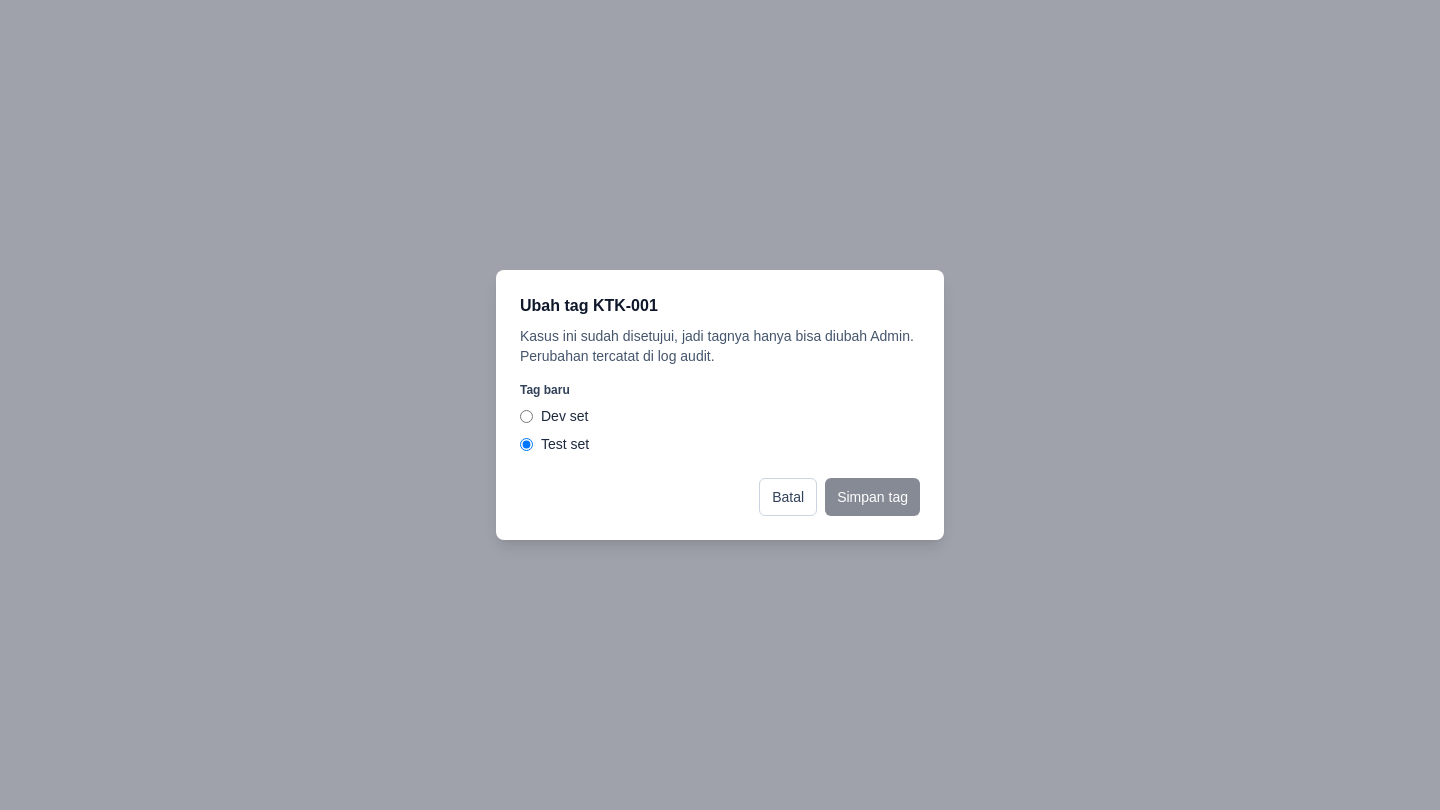
Scenario: ChangeSplitTagDialog › shows the server's reason and keeps the dialog open when the change fails
Step 1. Click the radio button labelled "Dev set" → {"x": 526, "y": 416}, box x1=520 y1=410 x2=533 y2=422
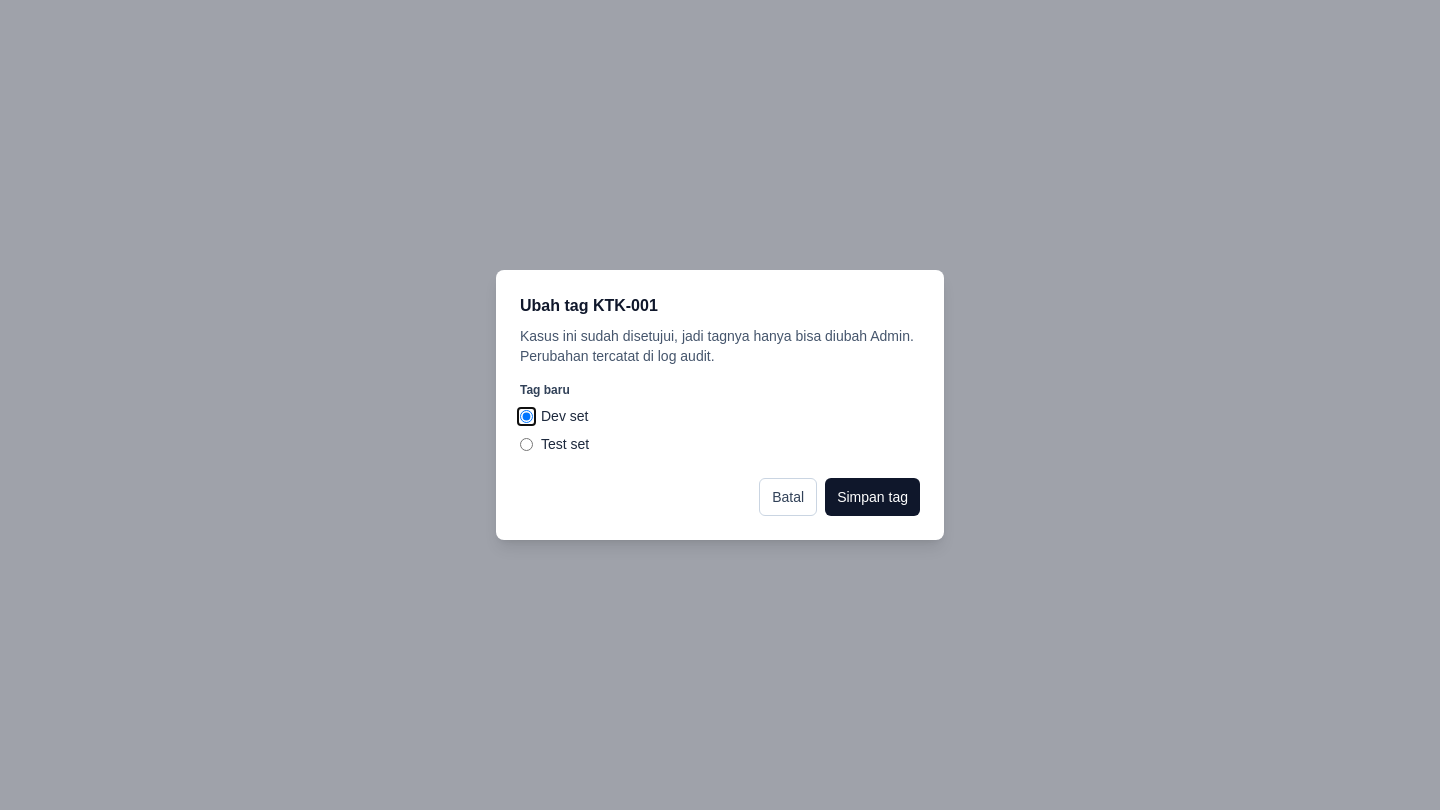
Step 2. Click the button "Simpan tag" → {"x": 873, "y": 497}, box x1=825 y1=478 x2=920 y2=516
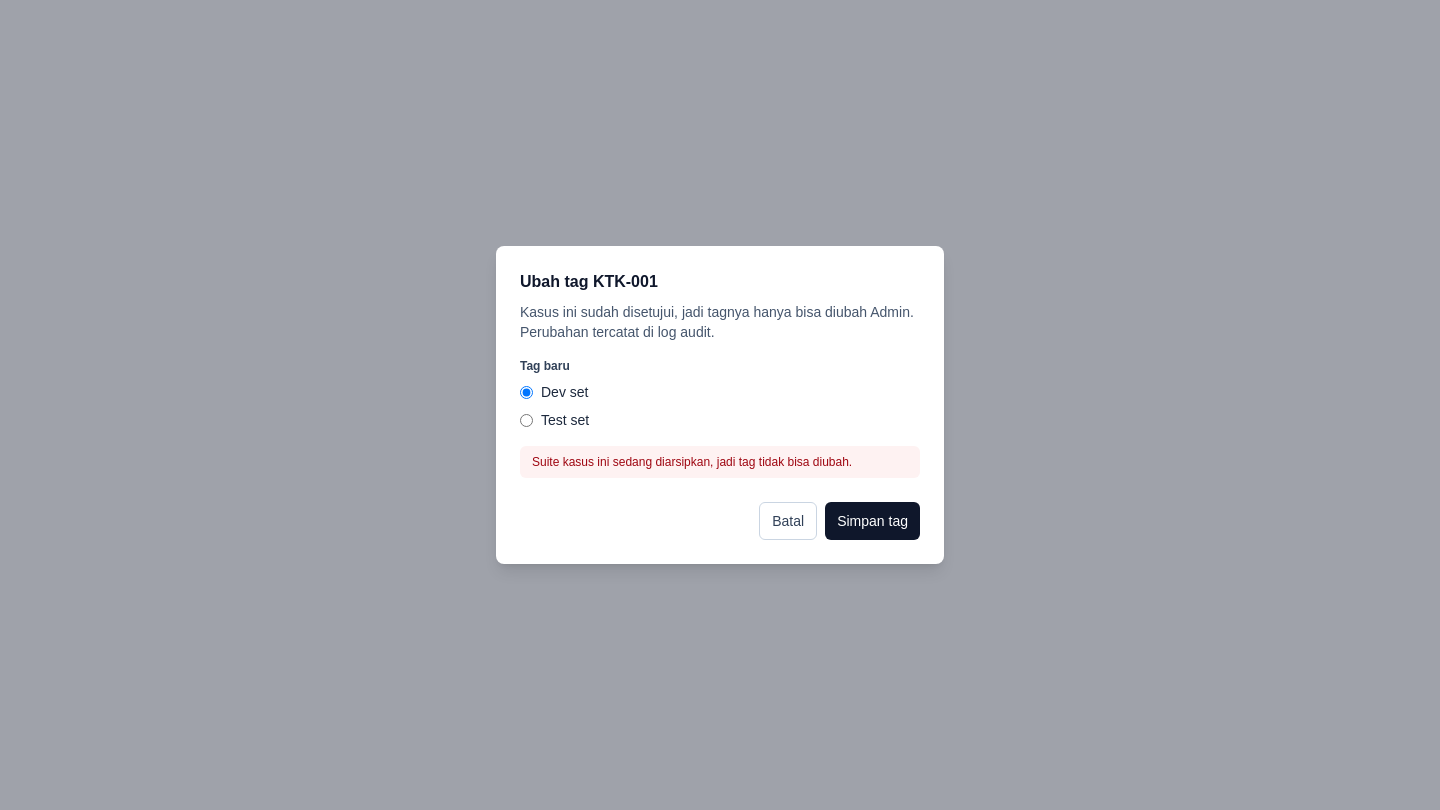
Result: the message shows "diarsipkan" at x1=532 y1=455 x2=852 y2=469
